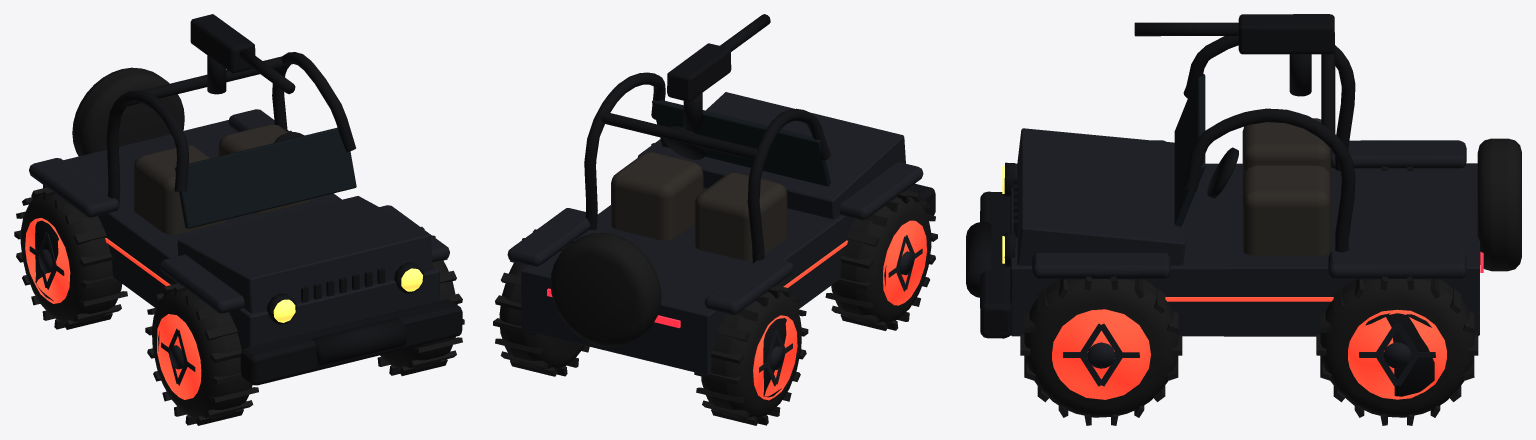
File: jeep_nat.glb
3 views of the same model, side by side, from view 1: azimuth 30°, elevation 25°; view 2: azimuth 150°, elevation 25°; view 3: azimuth 270°, elevation 25° (orthographic). The views are drawn at different scales.
Visible parts, largest first — view 1: krop_net; view 2: krop_net; view 3: krop_net.
Part boxes in pixels (bbox=[...]): krop_net: bbox=[14, 14, 464, 425]; krop_net: bbox=[493, 14, 937, 425]; krop_net: bbox=[966, 14, 1521, 425].
Bounding box in the file's own units: 1.04 × 1.15 × 1.71.
